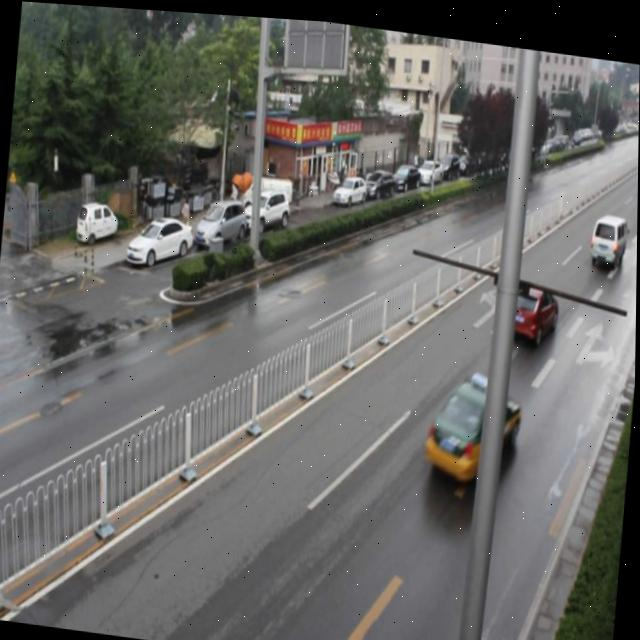car: (424, 362, 518, 480), (502, 267, 559, 336)
truck: (585, 200, 628, 263)
